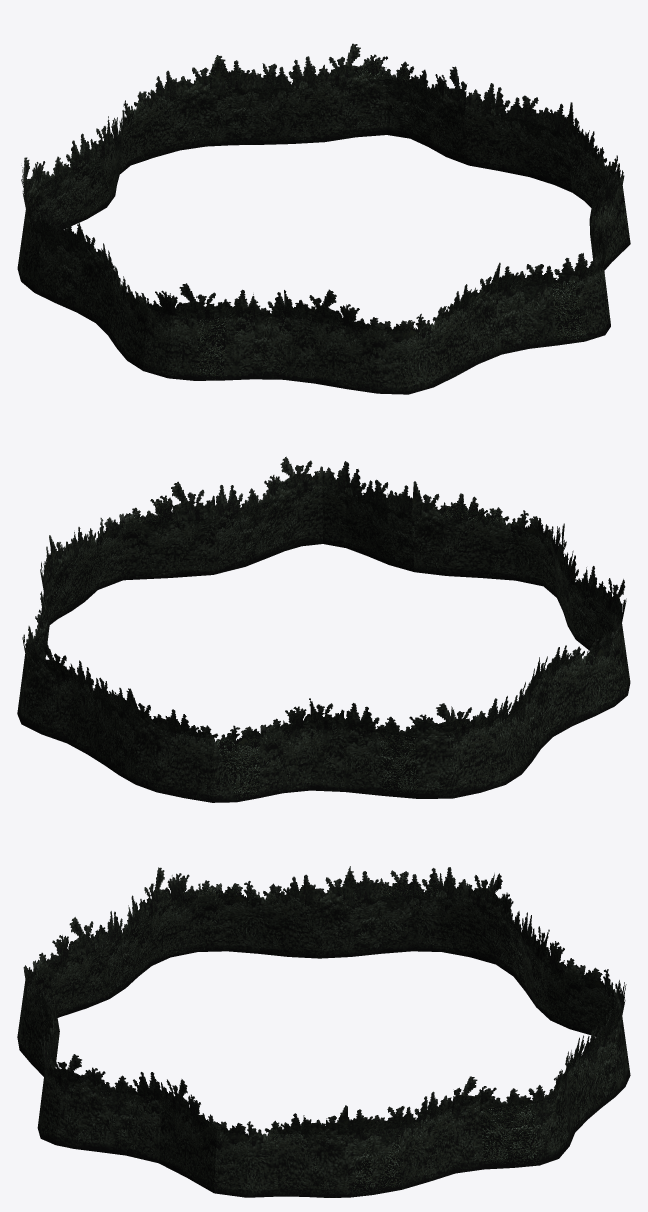
File: SM_EC_ScrubLine_Alt_8.fbx
3 renders of one model, top to bottom at view 1: azimuth 30°, elevation 25°; view 2: azimuth 150°, elevation 25°; view 3: azimuth 270°, elevation 25°, orthographic.
Visible parts, largest first — view 1: SM_EC_ScrubLine_Alt_8; view 2: SM_EC_ScrubLine_Alt_8; view 3: SM_EC_ScrubLine_Alt_8.
Part boxes in pixels (<box>): SM_EC_ScrubLine_Alt_8: <box>17,43,630,394</box>; SM_EC_ScrubLine_Alt_8: <box>17,456,630,802</box>; SM_EC_ScrubLine_Alt_8: <box>17,866,630,1197</box>.
Bounding box in the file's own units: 17.98 × 18.9 × 4.
